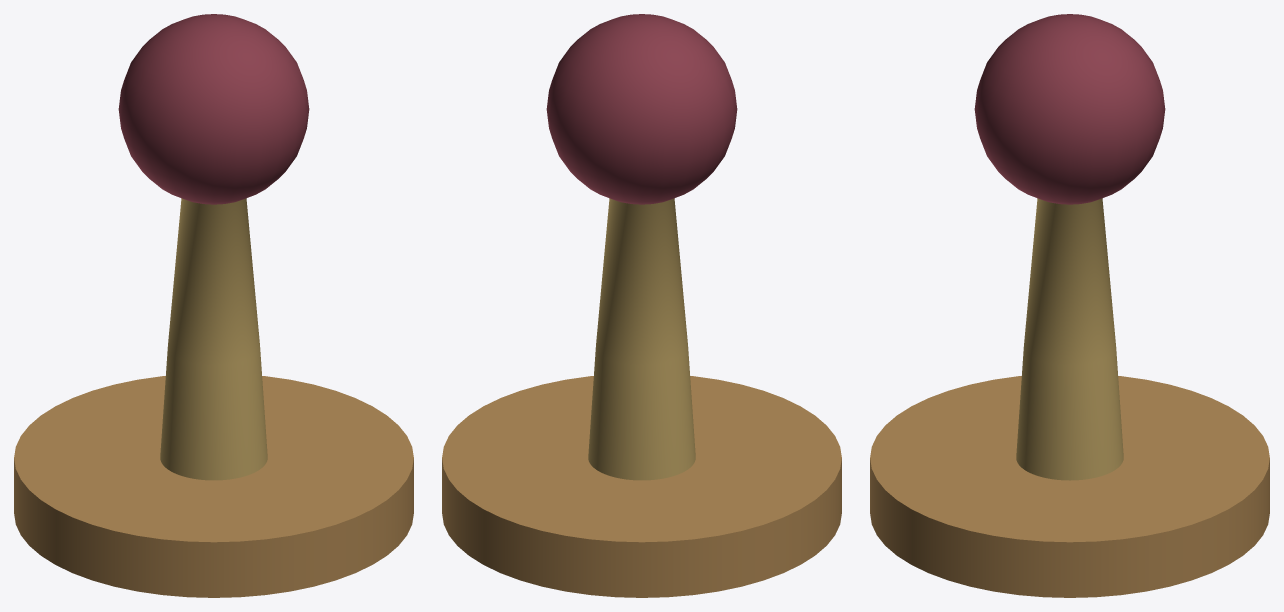
The model's file is abandoned-puppet-theatre-and-prop-vault-puppet-head-su-5a2f50d2__31096.glb.
3 views of the same model, side by side, from view 1: azimuth 30°, elevation 25°; view 2: azimuth 150°, elevation 25°; view 3: azimuth 270°, elevation 25° (orthographic).
Visible parts, largest first — view 1: puppet-head-support; view 2: puppet-head-support; view 3: puppet-head-support.
Boxes of the visible parts, left/top/right/bottom form: puppet-head-support: left=14, top=14, right=413, bottom=597; puppet-head-support: left=442, top=14, right=841, bottom=597; puppet-head-support: left=870, top=14, right=1269, bottom=597.
Bounding box in the file's own units: 0.26 × 0.352 × 0.26.
